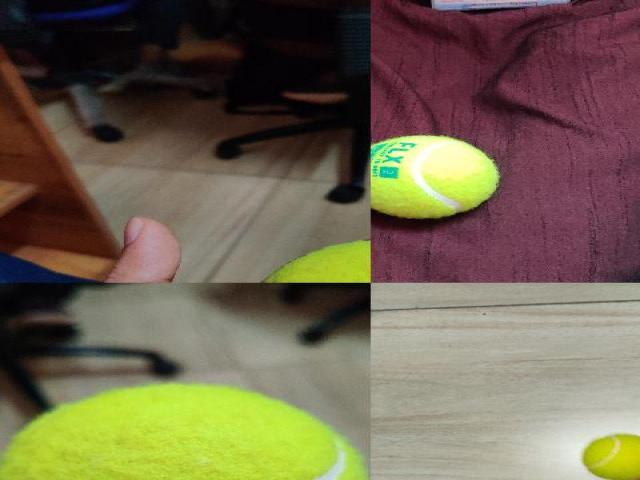tennis-ball: (0, 384, 369, 479), (371, 136, 498, 218), (268, 239, 372, 282), (582, 433, 640, 479), (582, 435, 638, 479)
